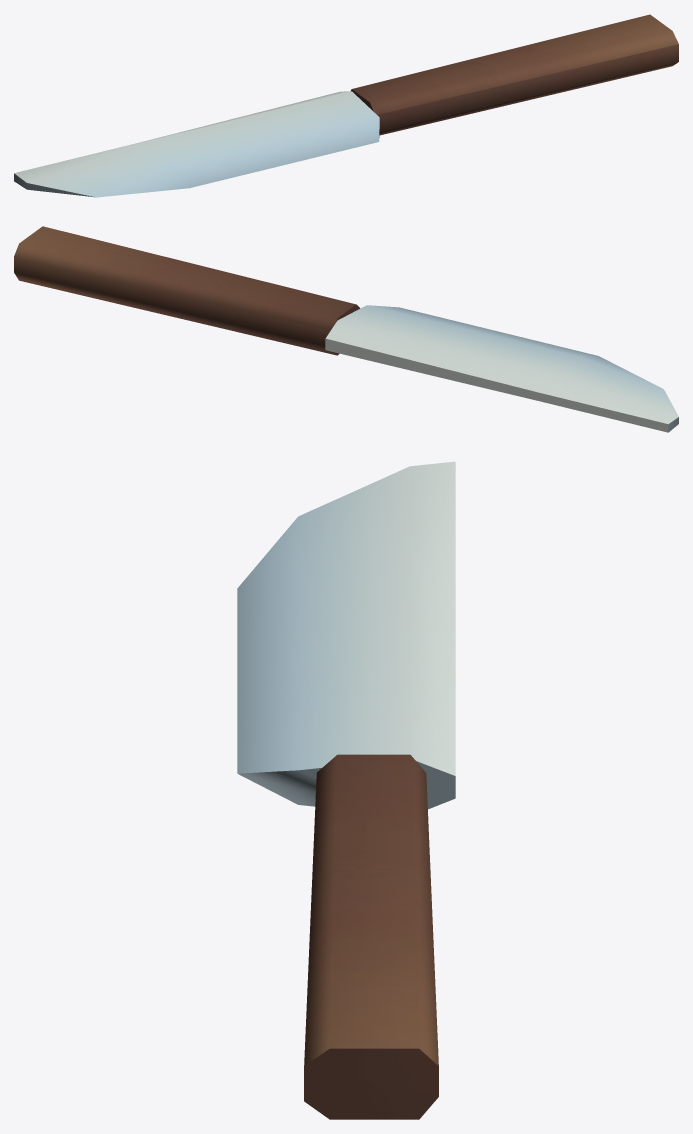
The model's file is knife_cuttlery_wood_metal.fbx.
3 renders of one model, top to bottom at view 1: azimuth 30°, elevation 25°; view 2: azimuth 150°, elevation 25°; view 3: azimuth 270°, elevation 25°, orthographic. The views are drawn at different scales.
Parts seen in each view (by area): view 1: knife_cuttlery_wood_metal; view 2: knife_cuttlery_wood_metal; view 3: knife_cuttlery_wood_metal.
Boxes of the visible parts, bbox=[...] form: knife_cuttlery_wood_metal: bbox=[14, 14, 678, 197]; knife_cuttlery_wood_metal: bbox=[14, 226, 678, 432]; knife_cuttlery_wood_metal: bbox=[237, 461, 455, 1119].
Bounding box in the file's own units: 43.25 × 2.35 × 6.53.
